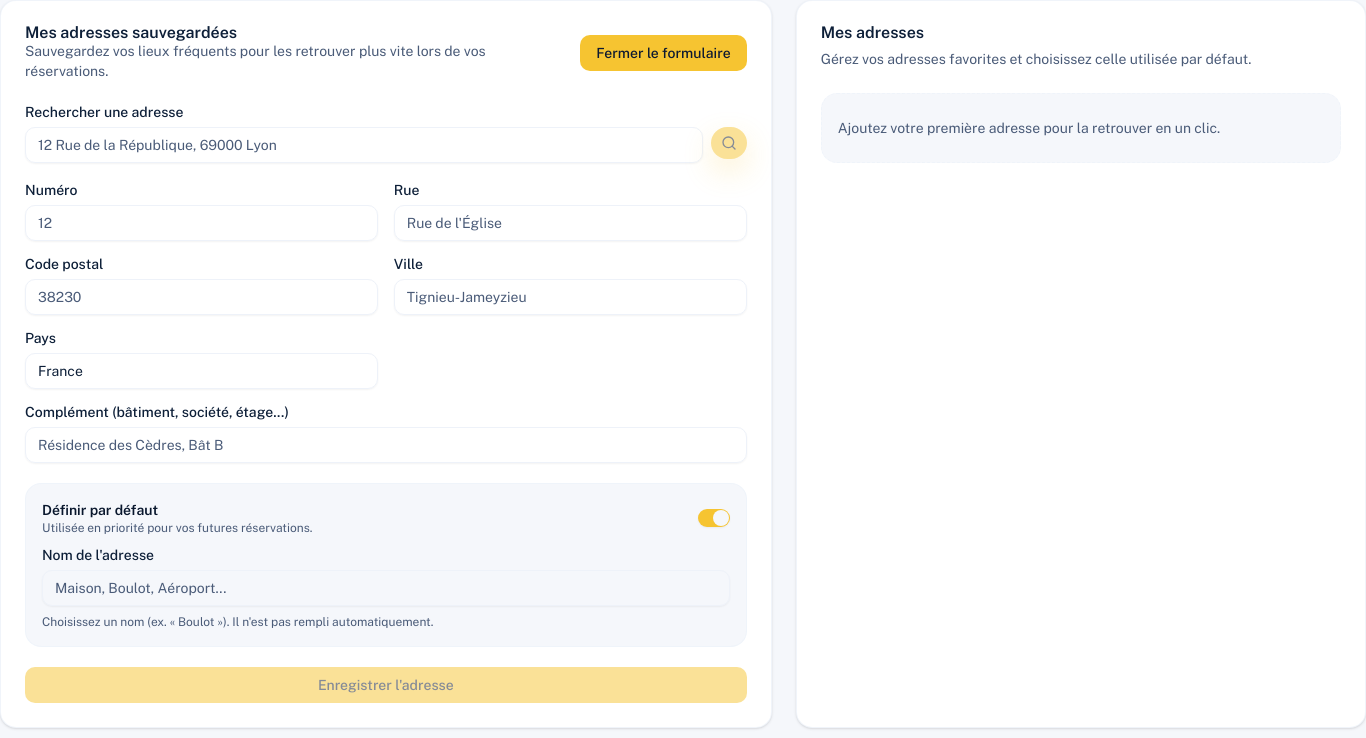
UserAddressesManager address selection › fills form fields without duplicating street number when selecting a suggestion
Type "114 route de cremieu" into the field with placeholder "12 Rue de la République, 69000 Lyon" at (364, 145), box 25,127 -> 703,163
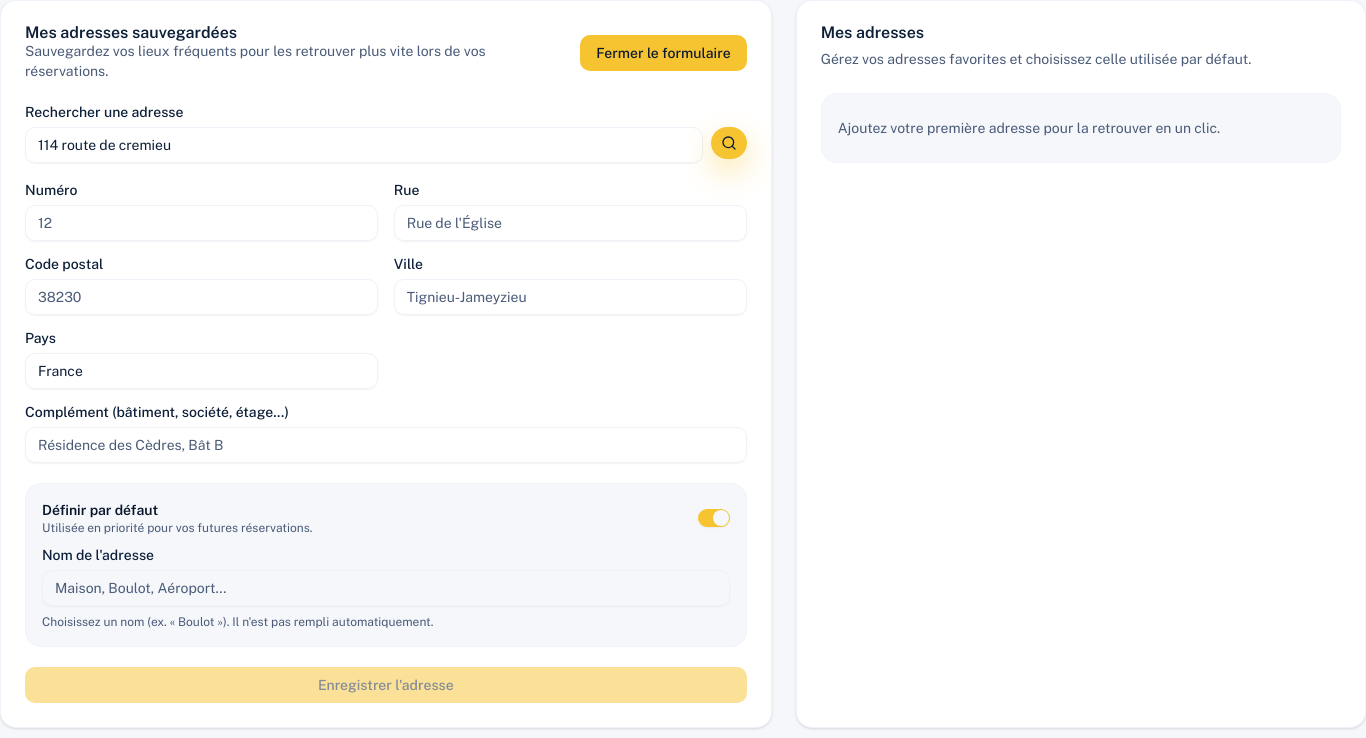
Click the button named "Rechercher" at (729, 143), box 711,127 -> 747,159
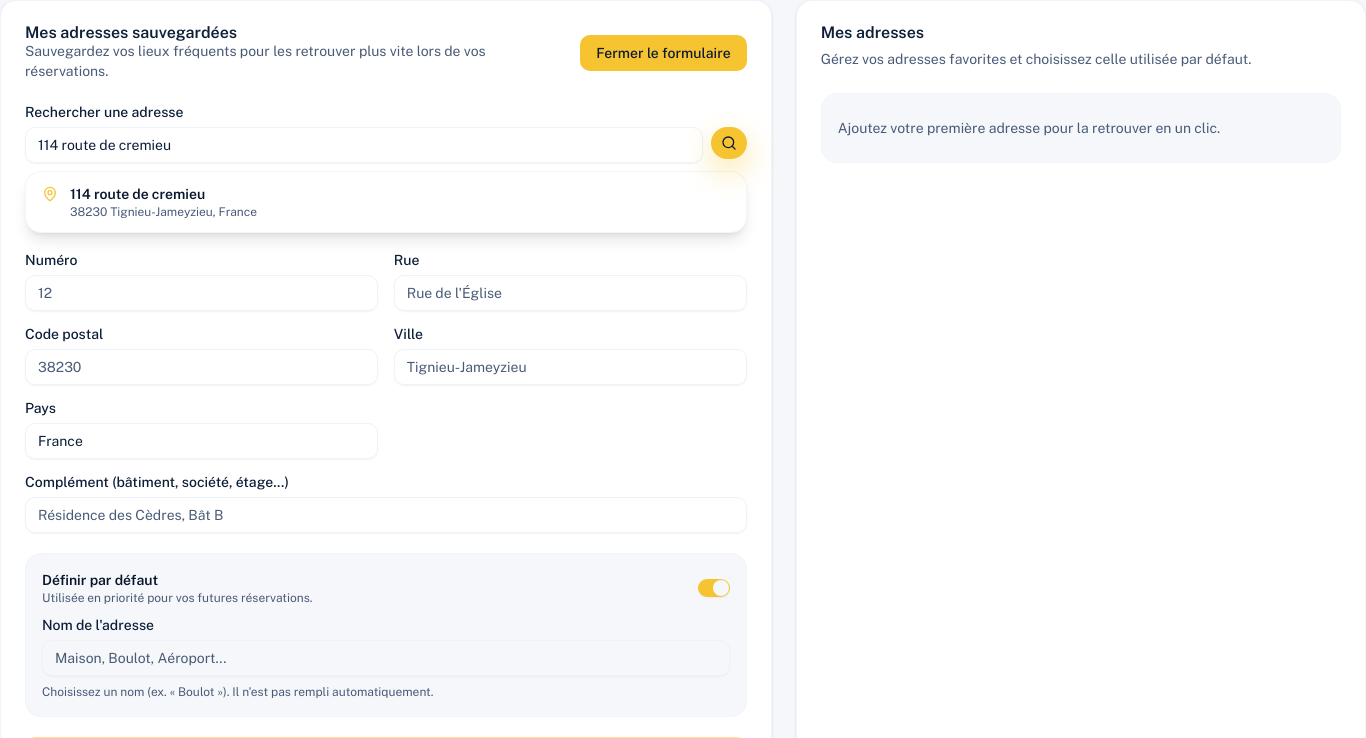
Click the button "114 route de cremieu 38230 Tignieu-Jameyzieu, France" at (138, 194), box 26,172 -> 746,232
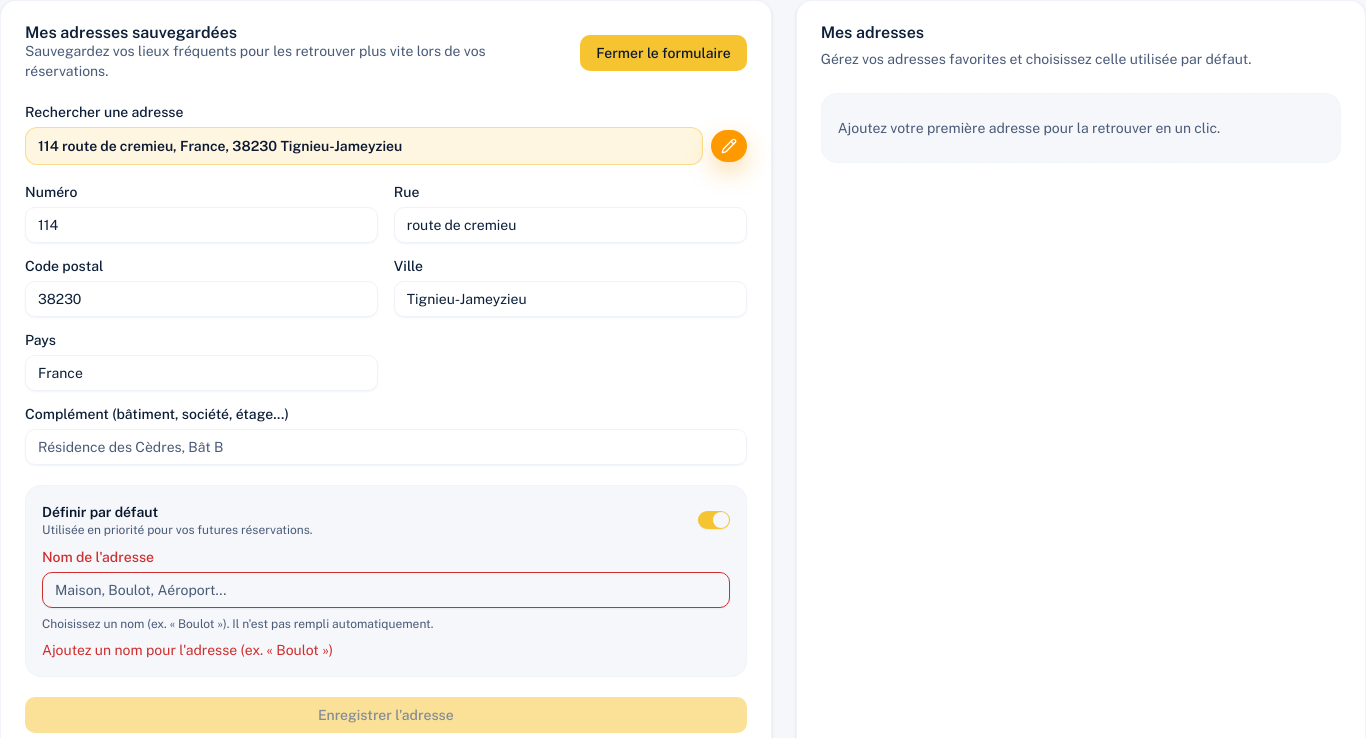
Now the field labelled "Numéro" holds "114", box 25,207 -> 378,243
Now the field labelled "Rue" holds "route de cremieu", box 394,207 -> 747,243
Now the field labelled "Code postal" holds "38230", box 25,281 -> 378,317
